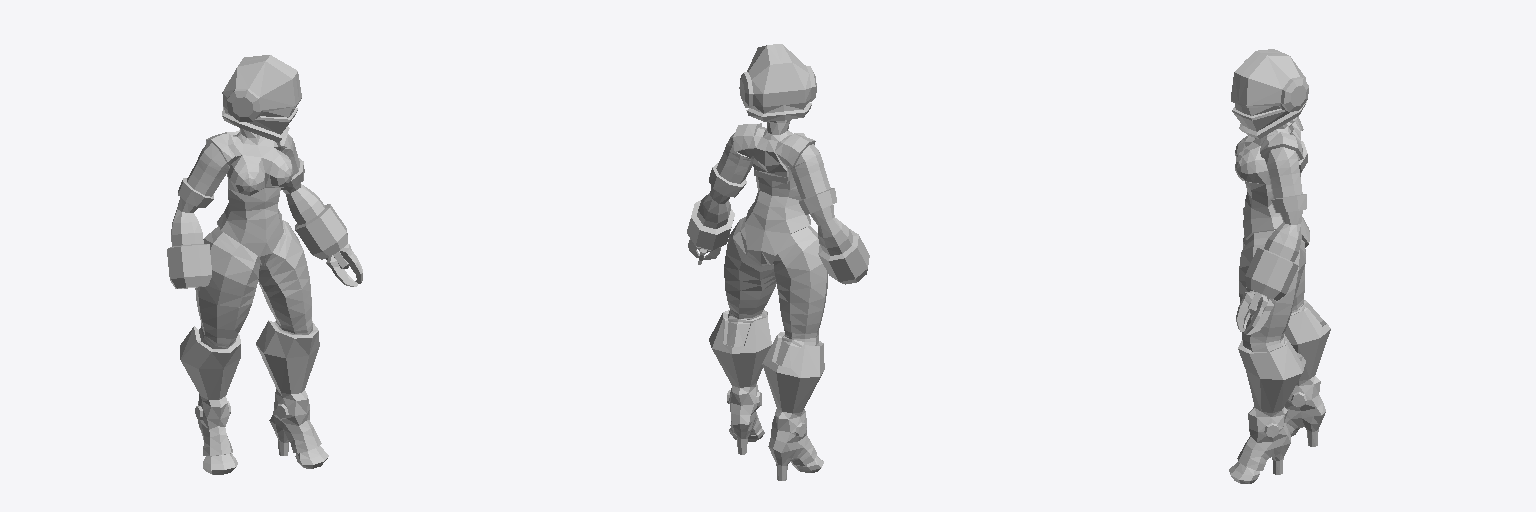
Rendered from GrappleGirl.obj.
3 renders of one model, left to right at view 1: azimuth 30°, elevation 25°; view 2: azimuth 150°, elevation 25°; view 3: azimuth 270°, elevation 25°, orthographic.
Visible parts, largest first — view 1: quandtum_grapple_girl_1_0:Mesh; view 2: quandtum_grapple_girl_1_0:Mesh; view 3: quandtum_grapple_girl_1_0:Mesh.
Boxes of the visible parts, x1=… form: quandtum_grapple_girl_1_0:Mesh: x1=167, y1=55, x2=362, y2=474; quandtum_grapple_girl_1_0:Mesh: x1=687, y1=44, x2=869, y2=480; quandtum_grapple_girl_1_0:Mesh: x1=1229, y1=49, x2=1330, y2=483.
Size of the model in its own units: 2.45 by 5.16 by 1.17.